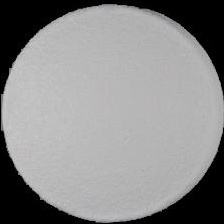66267-113: (0, 0, 224, 224)
